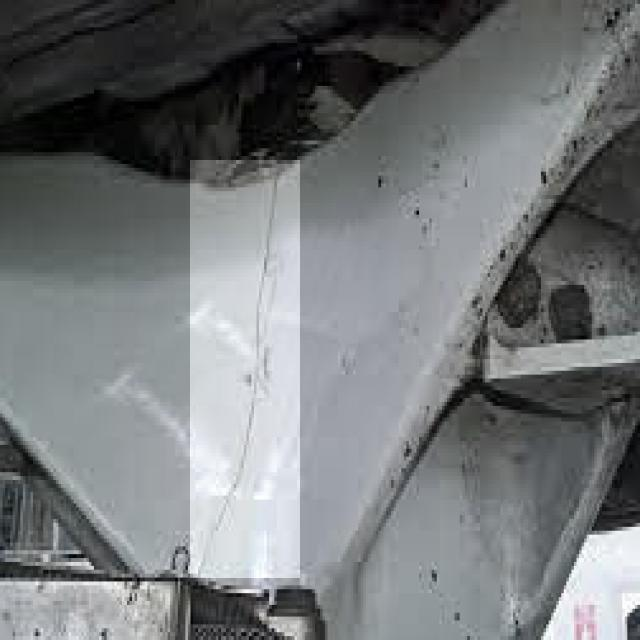crack: (191, 161, 301, 579)
